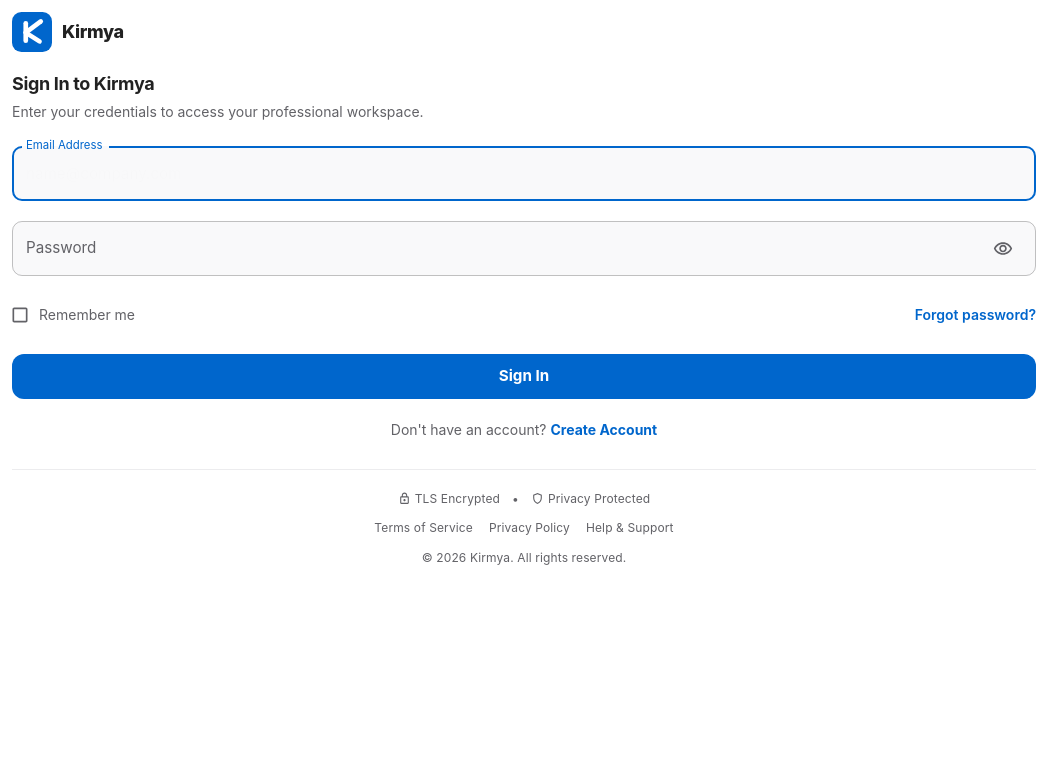
Test: Authentication & Account Recovery Experience (Prompt 18/50) › SignInForm Component › validates email format on submission
Click the button "Sign In" at [524, 377], box [12,354,1036,399]
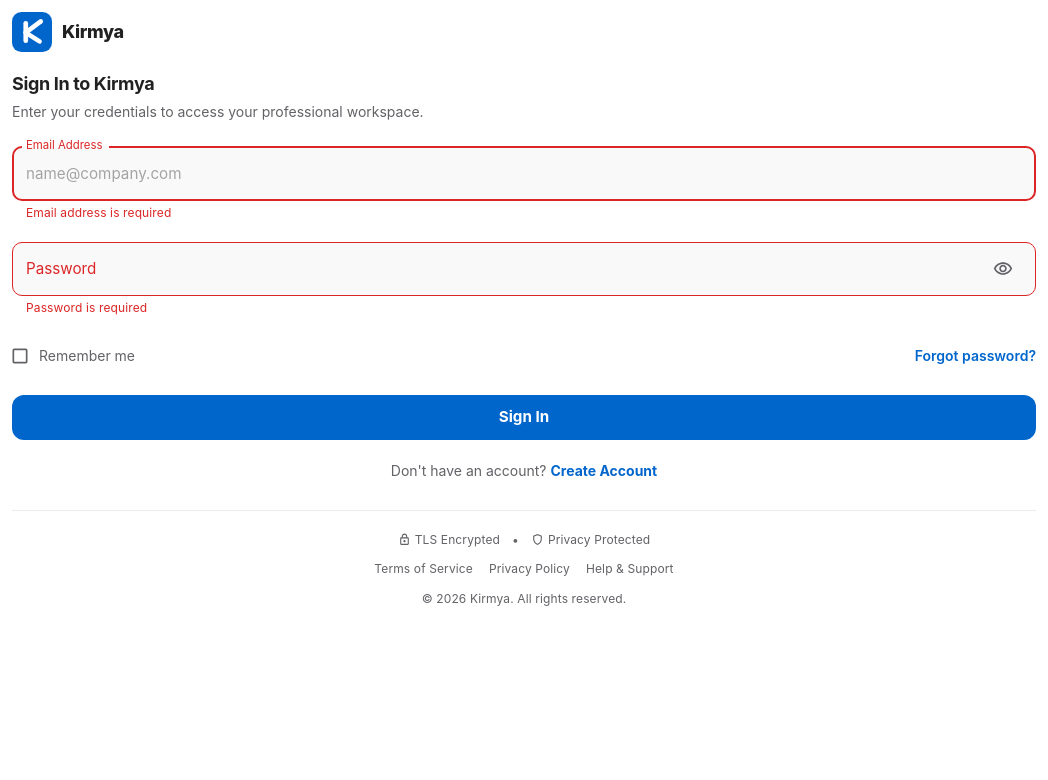
Result: the text "Email address is required" is shown at [26,205,171,220]
